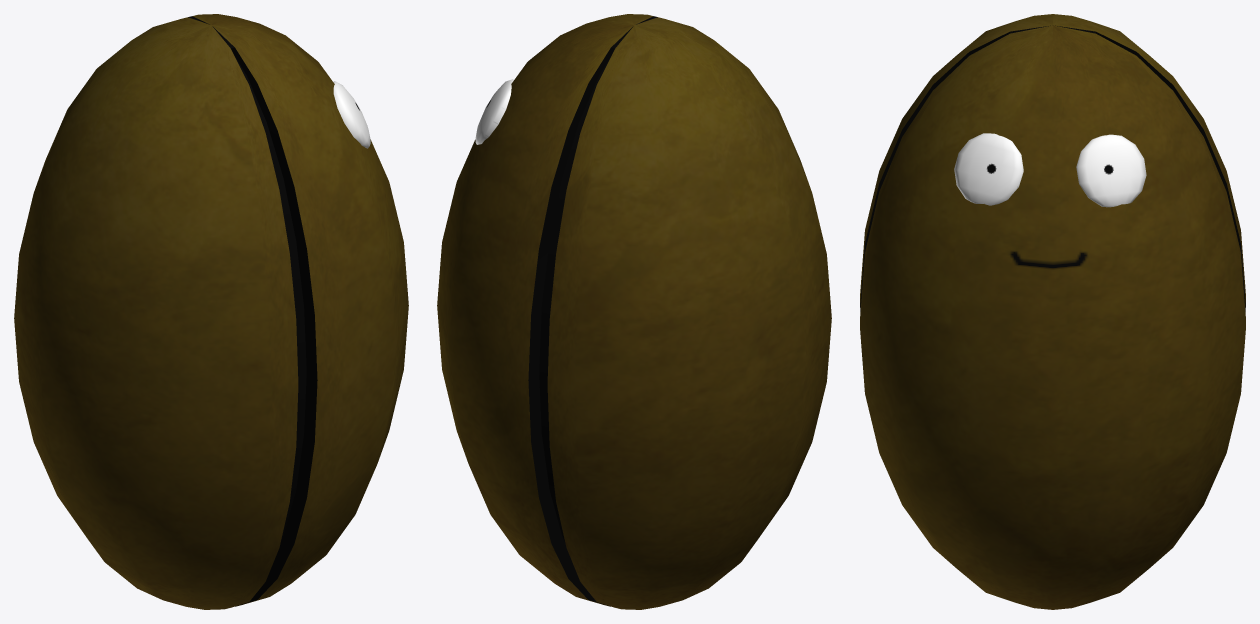
The model's file is Walnut.fbx.
3 renders of one model, left to right at view 1: azimuth 30°, elevation 25°; view 2: azimuth 150°, elevation 25°; view 3: azimuth 270°, elevation 25°, orthographic.
Visible parts, largest first — view 1: sphere, polymsh; view 2: sphere, polymsh; view 3: sphere, polymsh.
Part boxes in pixels (x1,y1,x2,y2): sphere: (14, 14, 408, 609); polymsh: (333, 81, 370, 148); sphere: (437, 14, 831, 609); polymsh: (475, 79, 513, 144); sphere: (860, 14, 1245, 609); polymsh: (954, 133, 1146, 207).
Size of the model in its own units: 9.23 by 14.58 by 9.
2 materials, 2 textured.
